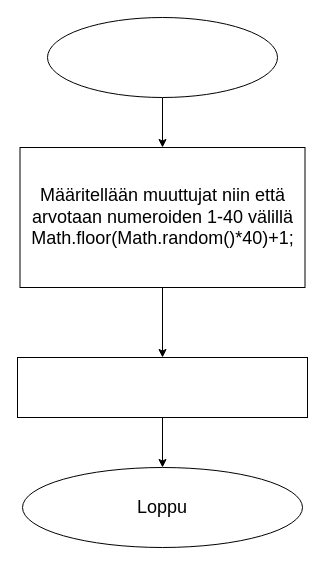
Image size: 325x565. Some labels were removed from this diagram. Each missing label, with the centre of its shape:
Aloitus: [162,57]
Tulostetaan 7 lukua järjestyksessä pienimmästä suurimpaan 1-40 väliltä: [162,387]
